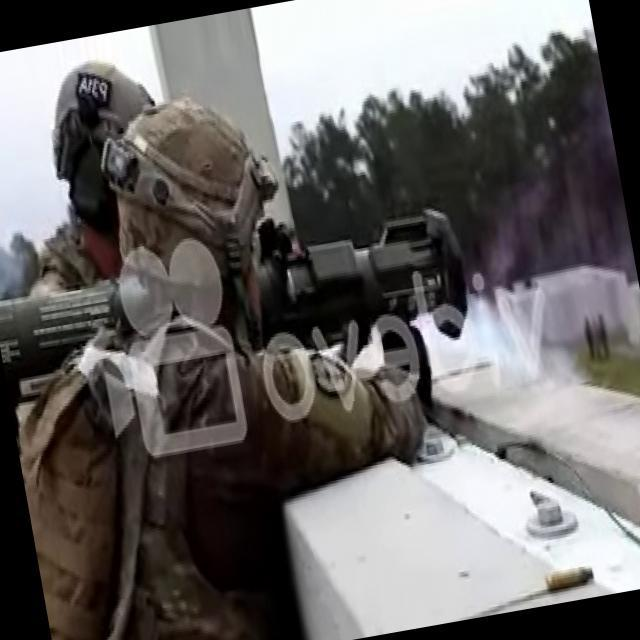rocket: (0, 203, 479, 414)
